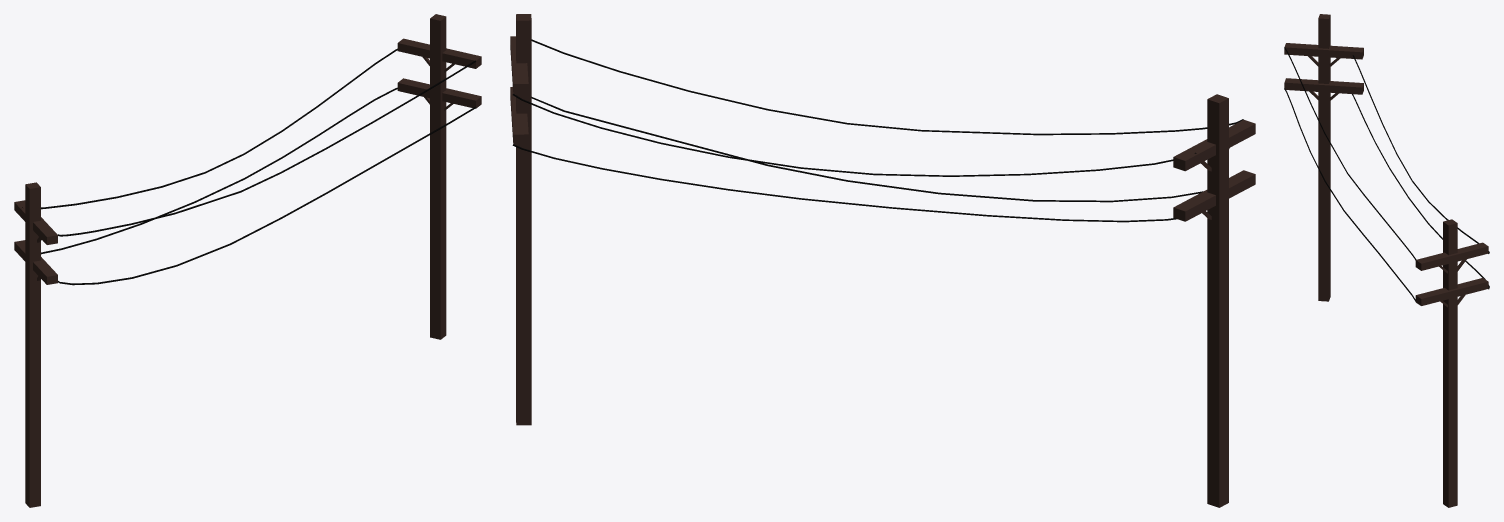
Rendered from pole.glb.
The picture shows the model from 3 angles, left to right: view 1: azimuth 30°, elevation 25°; view 2: azimuth 150°, elevation 25°; view 3: azimuth 270°, elevation 25°; orthographic projection. The views are drawn at different scales.
Visible parts, largest first — view 1: pole; view 2: pole; view 3: pole.
Boxes of the visible parts, left/top/right/bottom form: pole: left=14, top=14, right=481, bottom=507; pole: left=510, top=14, right=1255, bottom=507; pole: left=1284, top=14, right=1489, bottom=507.
Size of the model in its own units: 13.44 by 8.01 by 5.29.
